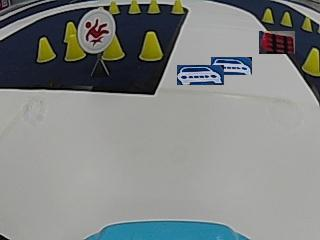cone: (138, 29, 166, 63), (300, 46, 319, 79), (104, 37, 126, 62), (36, 37, 55, 62), (63, 38, 82, 62), (260, 8, 274, 25), (281, 11, 294, 28), (128, 1, 143, 15), (147, 1, 161, 15), (172, 1, 185, 15), (106, 1, 120, 13), (301, 17, 312, 32)
tumble: (82, 13, 114, 48)
